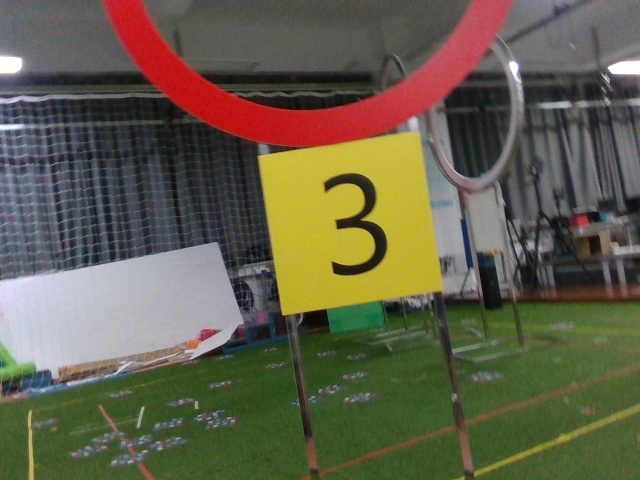target: (270, 154, 442, 301)
